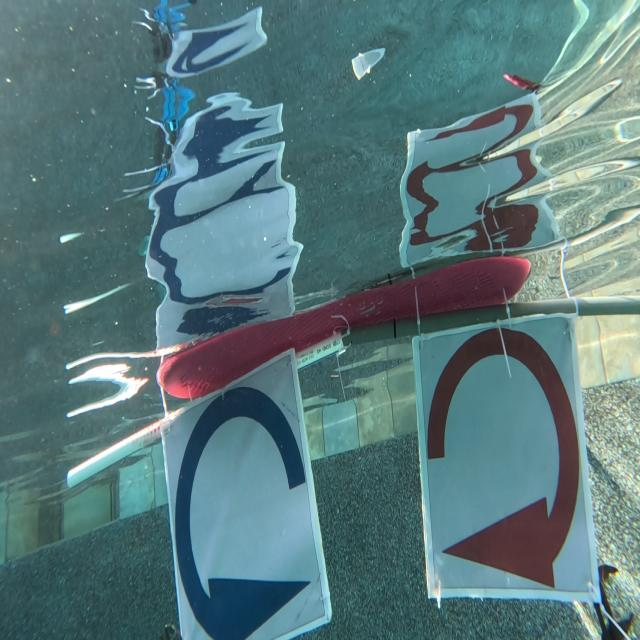blue_side: (146, 348, 329, 640)
red_side: (408, 314, 596, 601)
